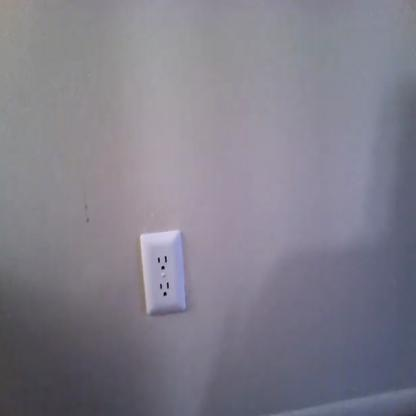OUTLET: (140, 232, 186, 314)
